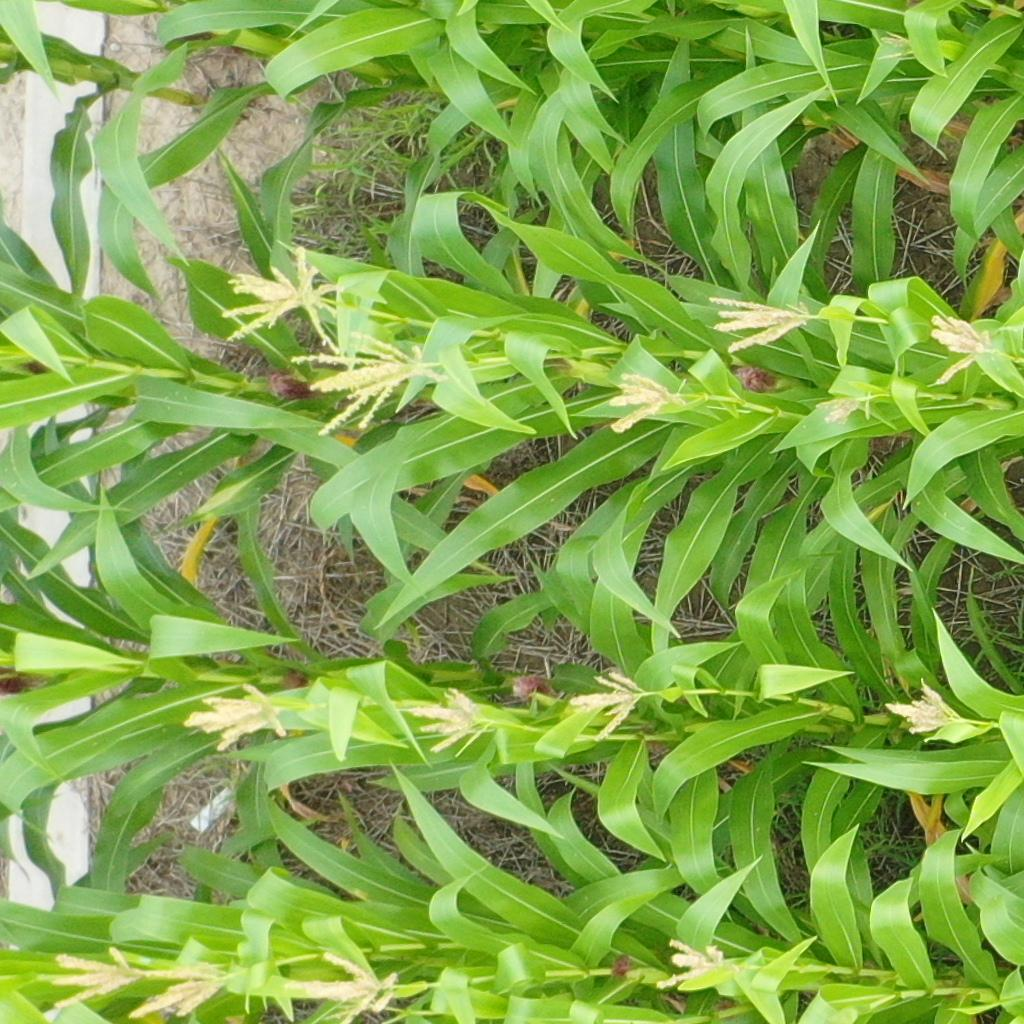Tassel: (290, 333, 447, 435), (220, 245, 347, 361), (282, 950, 399, 1024), (184, 683, 293, 753), (130, 956, 238, 1019), (39, 943, 140, 1010), (709, 291, 816, 353), (931, 317, 1018, 388), (568, 670, 651, 737), (408, 686, 486, 752), (655, 934, 734, 991), (610, 375, 685, 434), (884, 686, 965, 733), (814, 396, 877, 427), (875, 31, 916, 65)
